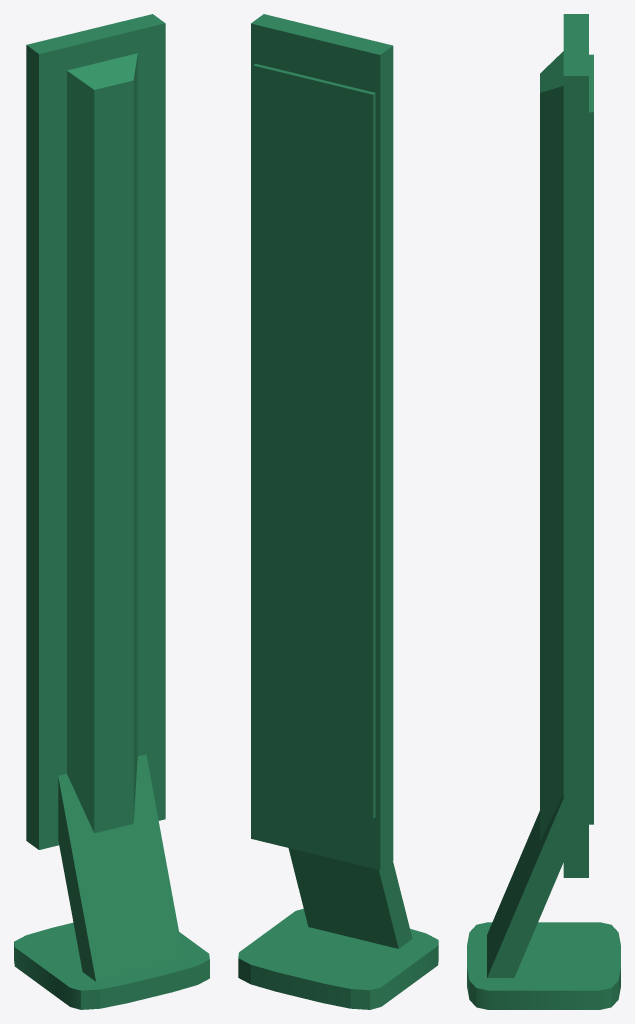
The model's file is mcp_tv_speaker.FBX.
3 renders of one model, left to right at view 1: azimuth 30°, elevation 25°; view 2: azimuth 150°, elevation 25°; view 3: azimuth 270°, elevation 25°, orthographic. The views are drawn at different scales.
Parts seen in each view (by area): view 1: mcp_tv_speaker; view 2: mcp_tv_speaker; view 3: mcp_tv_speaker.
Part boxes in pixels (x1,y1,x2,y2): mcp_tv_speaker: (14, 14, 209, 1009); mcp_tv_speaker: (238, 14, 438, 1009); mcp_tv_speaker: (467, 14, 620, 1009).
Size of the model in its own units: 19.95 by 127 by 18.97.
